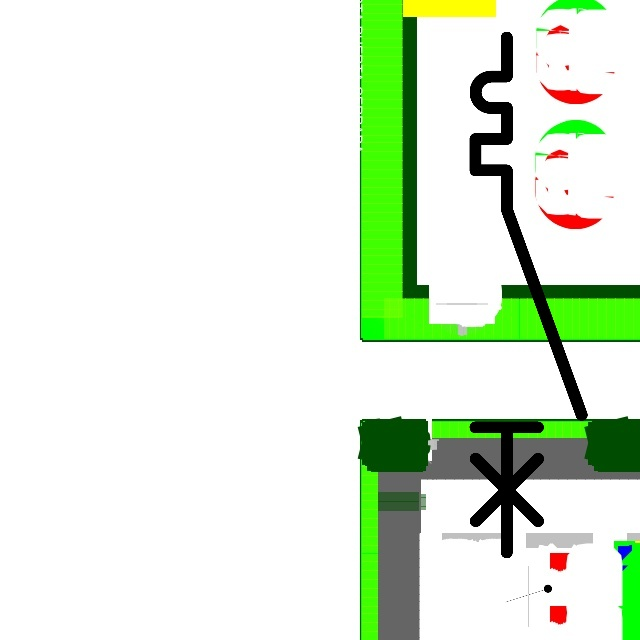interruptor_termomagnetico: (462, 24, 594, 565)
